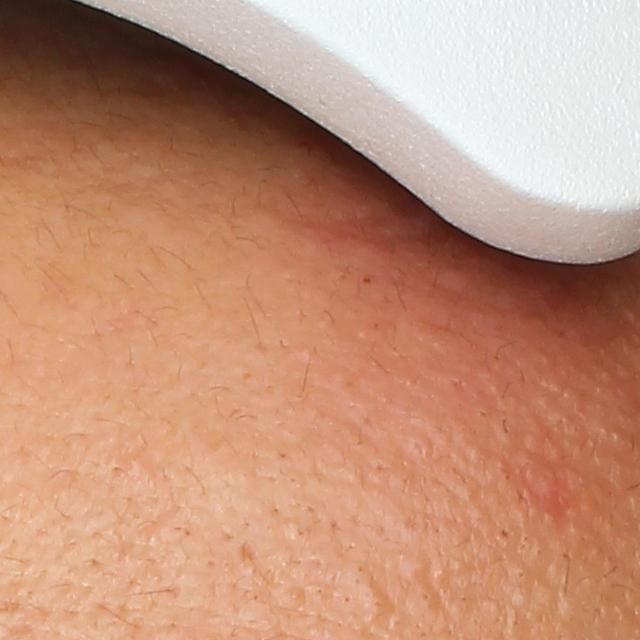comedo: (361, 588, 392, 619), (400, 556, 427, 583), (495, 523, 517, 546), (411, 590, 434, 609)
